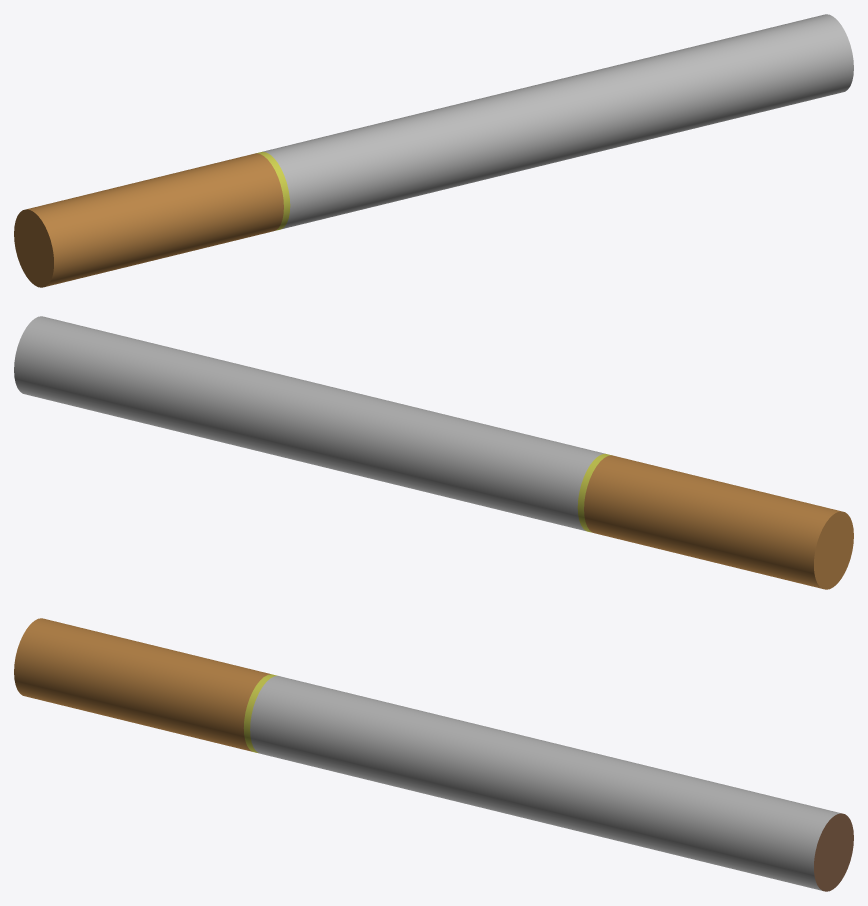
The model's file is fag.fbx.
The picture shows the model from 3 angles, top to bottom: view 1: azimuth 30°, elevation 25°; view 2: azimuth 150°, elevation 25°; view 3: azimuth 330°, elevation 25°; orthographic projection.
Visible parts, largest first — view 1: Cylinder; view 2: Cylinder; view 3: Cylinder.
Boxes of the visible parts, x1,y1,x2,y2 form: Cylinder: (14, 14, 853, 287); Cylinder: (14, 316, 853, 589); Cylinder: (14, 618, 853, 891).
Bounding box in the file's own units: 425 × 36.96 × 36.96.
